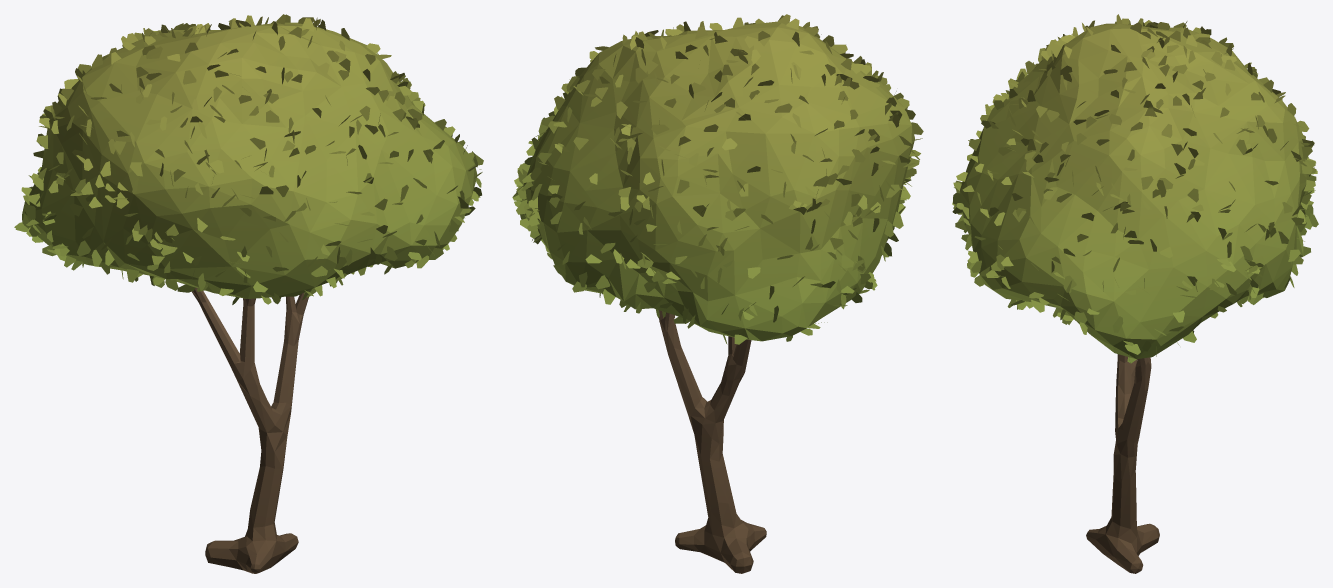
The model's file is Tree_06.fbx.
The picture shows the model from 3 angles, left to right: view 1: azimuth 30°, elevation 25°; view 2: azimuth 150°, elevation 25°; view 3: azimuth 270°, elevation 25°; orthographic projection. The views are drawn at different scales.
Visible parts, largest first — view 1: Tree_06_LOD0; view 2: Tree_06_LOD0; view 3: Tree_06_LOD0.
Part boxes in pixels (x1,y1,x2,y2): Tree_06_LOD0: [14, 14, 483, 573]; Tree_06_LOD0: [512, 14, 923, 573]; Tree_06_LOD0: [952, 14, 1318, 573].
Size of what is drawn, in the model's own units: 5.33 by 7.21 by 4.63.
